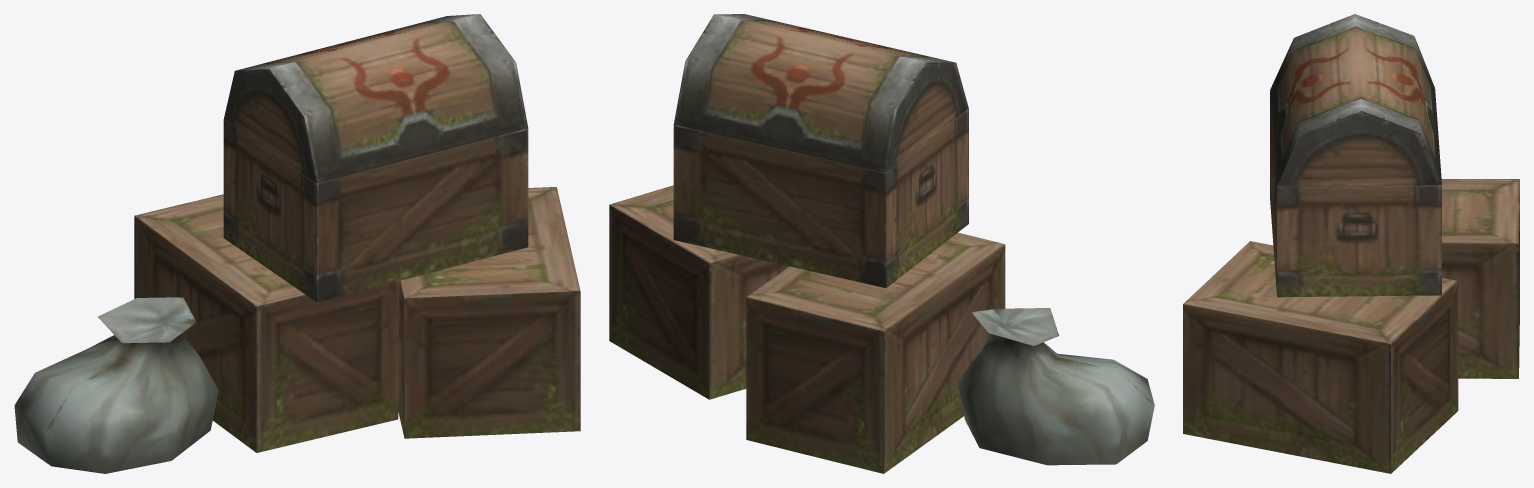
Rendered from xzl_xiangzi_jgc.FBX.
3 views of the same model, side by side, from view 1: azimuth 30°, elevation 25°; view 2: azimuth 150°, elevation 25°; view 3: azimuth 270°, elevation 25° (orthographic). The views are drawn at different scales.
Parts seen in each view (by area): view 1: xzl_xiangzi_jgc; view 2: xzl_xiangzi_jgc; view 3: xzl_xiangzi_jgc.
Boxes of the visible parts, <box> form: xzl_xiangzi_jgc: <box>14,14,580,473</box>; xzl_xiangzi_jgc: <box>609,14,1154,473</box>; xzl_xiangzi_jgc: <box>1183,14,1519,473</box>.
Bounding box in the file's own units: 203 × 126 × 120.
